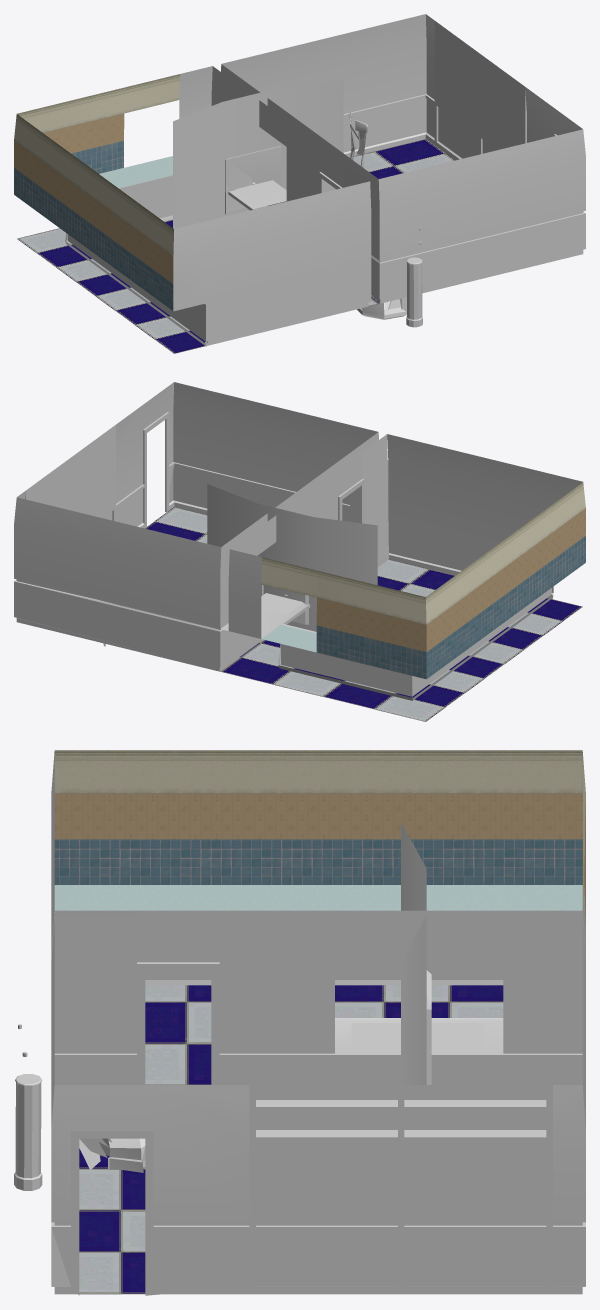
File: hideseek.glb
3 renders of one model, top to bottom at view 1: azimuth 30°, elevation 25°; view 2: azimuth 150°, elevation 25°; view 3: azimuth 270°, elevation 25°, orthographic. The views are drawn at different scales.
Parts seen in each view (by area): view 1: dragonjan.001, mesh_1_14.nr, dragonjan.005, mesh_1_10.nr, mesh_1_8.nr, mesh_1_20.nr; view 2: dragonjan.001, dragonjan.005, mesh_1_14.nr, mesh_1_10.nr, mesh_1_8.nr, mesh_1_20.nr; view 3: dragonjan.001, mesh_1_10.nr, mesh_1_14.nr, mesh_1_8.nr, dragonjan.005, mesh_1_20.nr.
Part boxes in pixels (x1,y1,x2,y2): dragonjan.001: [65, 14, 585, 346]; mesh_1_14.nr: [14, 74, 180, 256]; dragonjan.005: [17, 139, 454, 353]; mesh_1_10.nr: [14, 113, 173, 283]; mesh_1_8.nr: [14, 140, 173, 310]; mesh_1_20.nr: [99, 156, 172, 188]; dragonjan.001: [14, 382, 582, 700]; dragonjan.005: [145, 507, 582, 721]; mesh_1_14.nr: [261, 482, 585, 624]; mesh_1_10.nr: [316, 508, 585, 651]; mesh_1_8.nr: [316, 536, 585, 679]; mesh_1_20.nr: [262, 624, 316, 652]; dragonjan.001: [14, 752, 585, 1295]; mesh_1_10.nr: [54, 793, 585, 923]; mesh_1_14.nr: [54, 750, 585, 926]; mesh_1_8.nr: [54, 839, 582, 884]; dragonjan.005: [79, 985, 503, 1294]; mesh_1_20.nr: [54, 885, 582, 912].
Size of the model in its own units: 246 by 90.5 by 173.
Materials: 12 (11 with a texture image).
